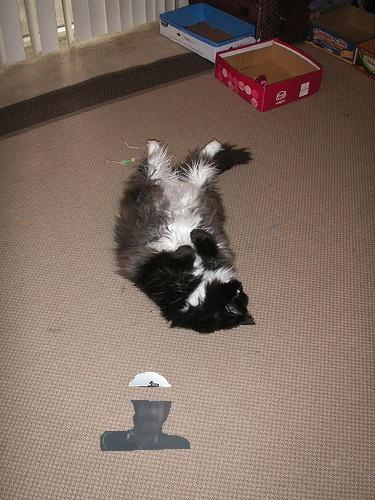tampered: (101, 373, 190, 451)
